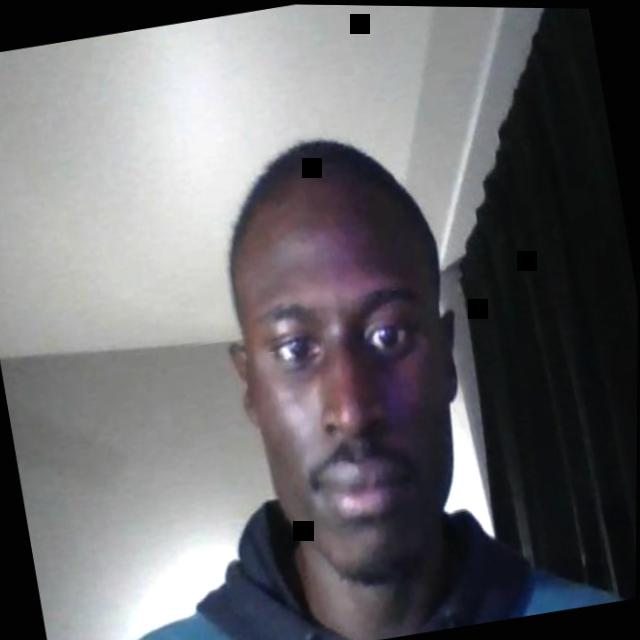NO-Mask: (229, 219, 485, 603)
